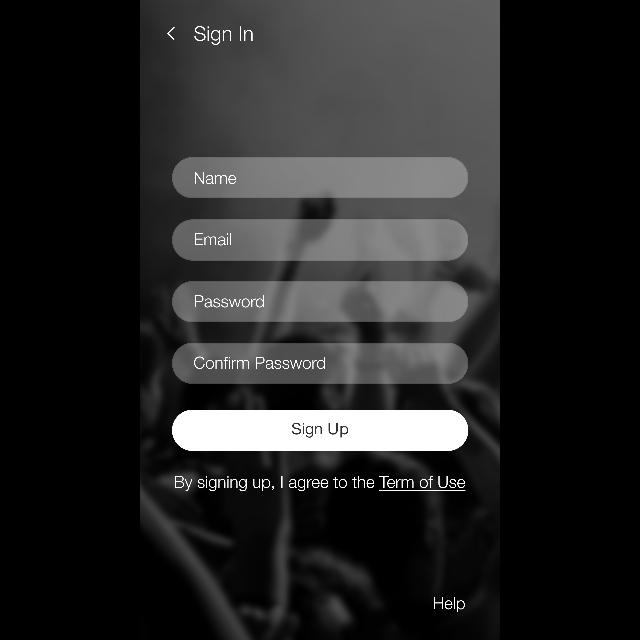backgroundimage: (140, 1, 500, 640)
icon: (167, 27, 175, 41)
input: (172, 157, 468, 199), (172, 220, 468, 260), (172, 282, 468, 322), (172, 344, 468, 384)
text: (174, 476, 466, 492), (194, 356, 326, 369), (194, 27, 253, 46), (195, 296, 265, 308), (433, 597, 465, 613), (195, 172, 237, 184), (194, 234, 232, 246)
textbutton: (172, 410, 468, 450)
